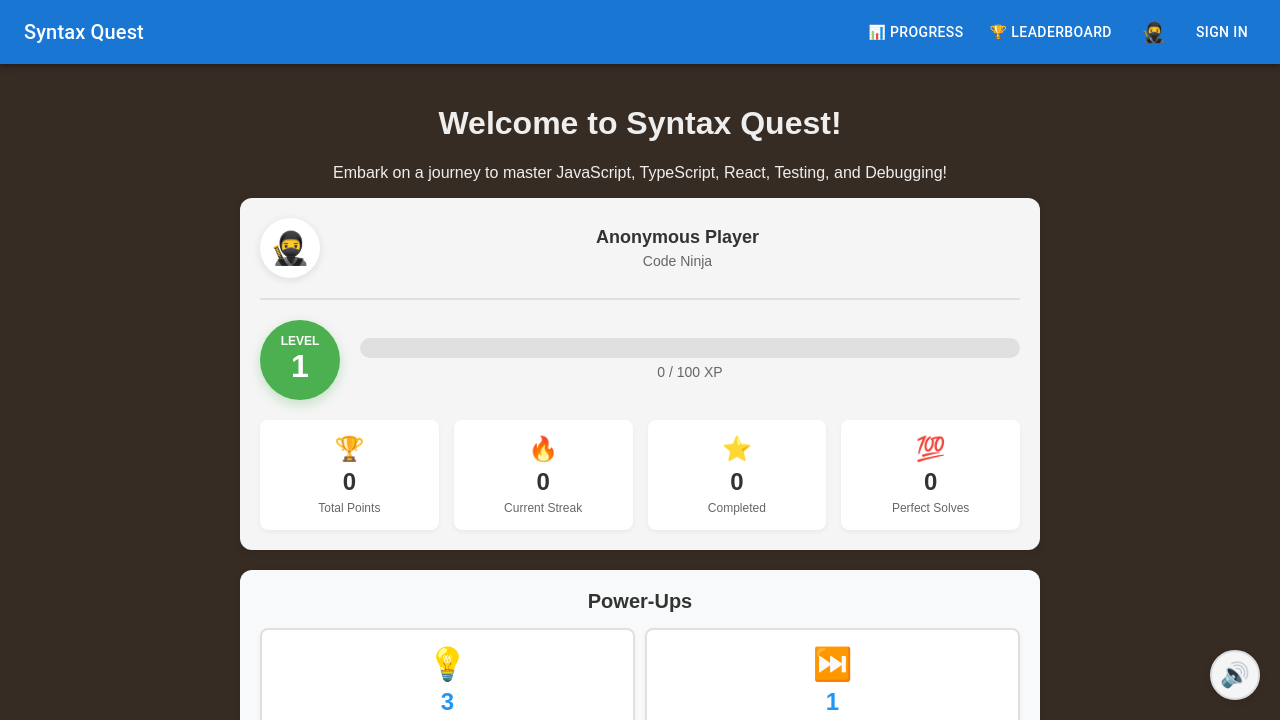
it: Syntax Quest User Journey › Authentication › should toggle sign in/out button
The width and height of the screenshot is (1280, 720).
Note: Click it
Click the button "Sign In" at x=1222, y=33, box [1188,14,1256,51]
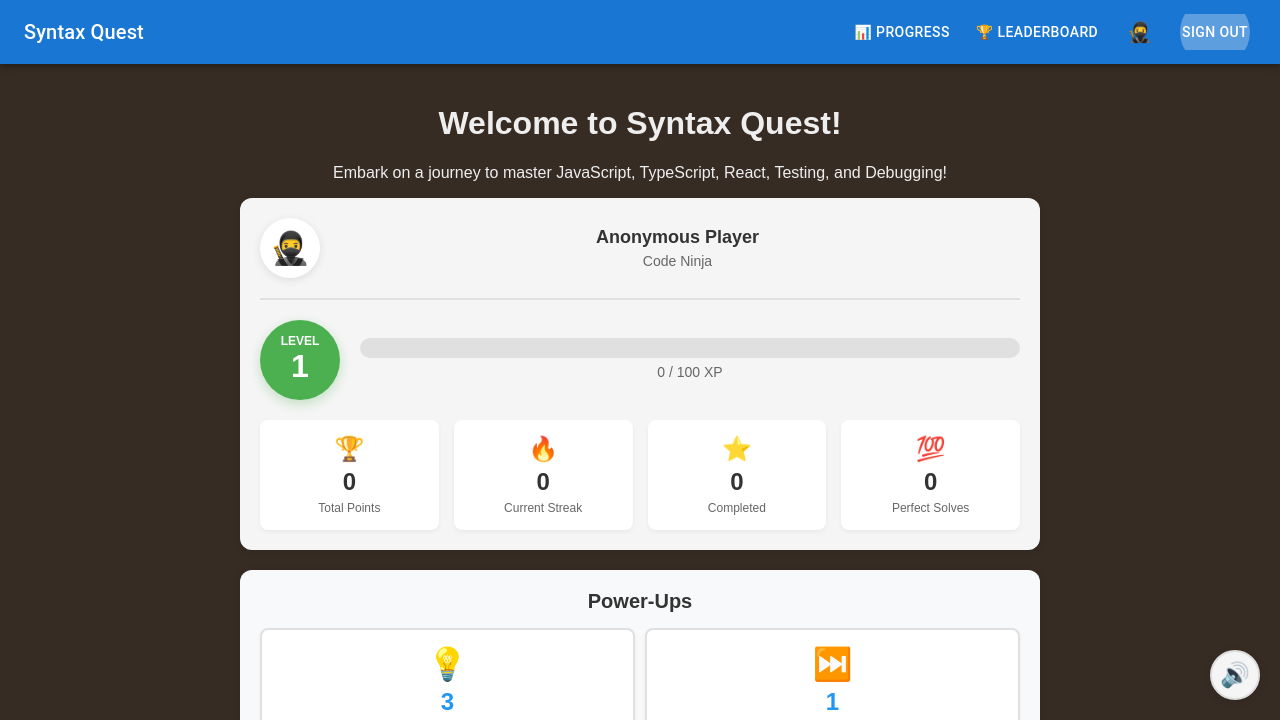
Expected: the button "Sign Out" is shown, [1174,14,1256,50]
